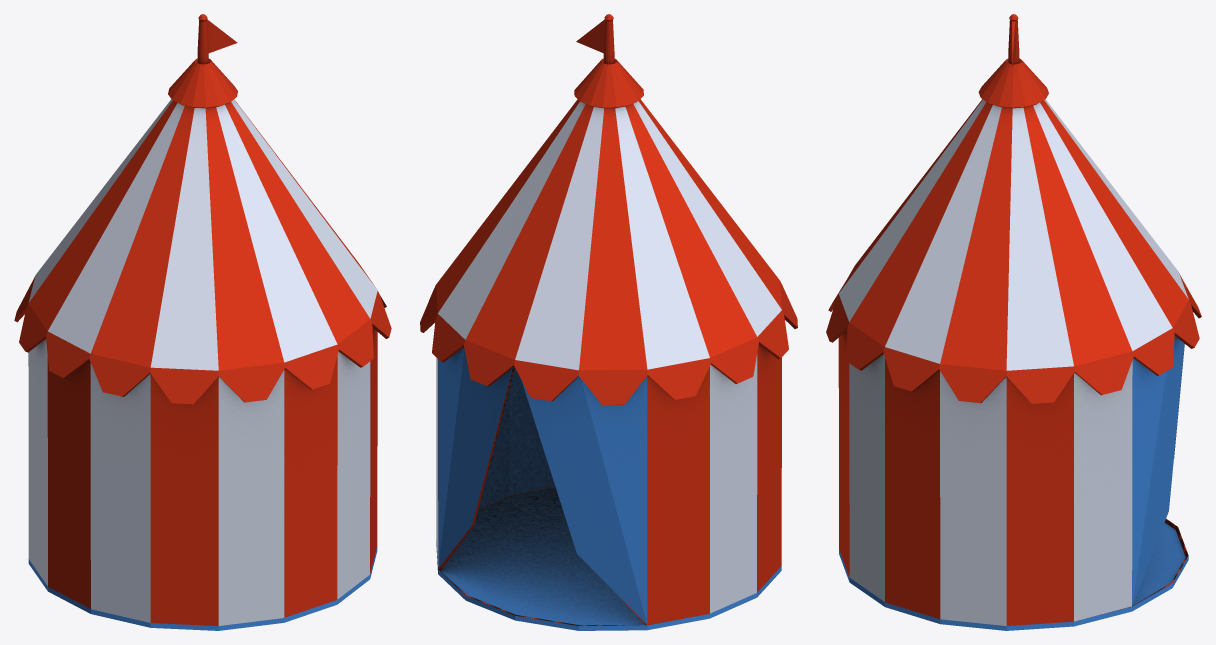
Rendered from Tent.fbx.
The picture shows the model from 3 angles, left to right: view 1: azimuth 30°, elevation 25°; view 2: azimuth 150°, elevation 25°; view 3: azimuth 270°, elevation 25°; orthographic projection.
Parts seen in each view (by area): view 1: Tent; view 2: Tent; view 3: Tent.
Part boxes in pixels (box(x1,y1,x2,y2)): Tent: box(14, 14, 391, 630); Tent: box(420, 14, 797, 630); Tent: box(826, 14, 1201, 630).
Size of the model in its own units: 209 by 333 by 209.
